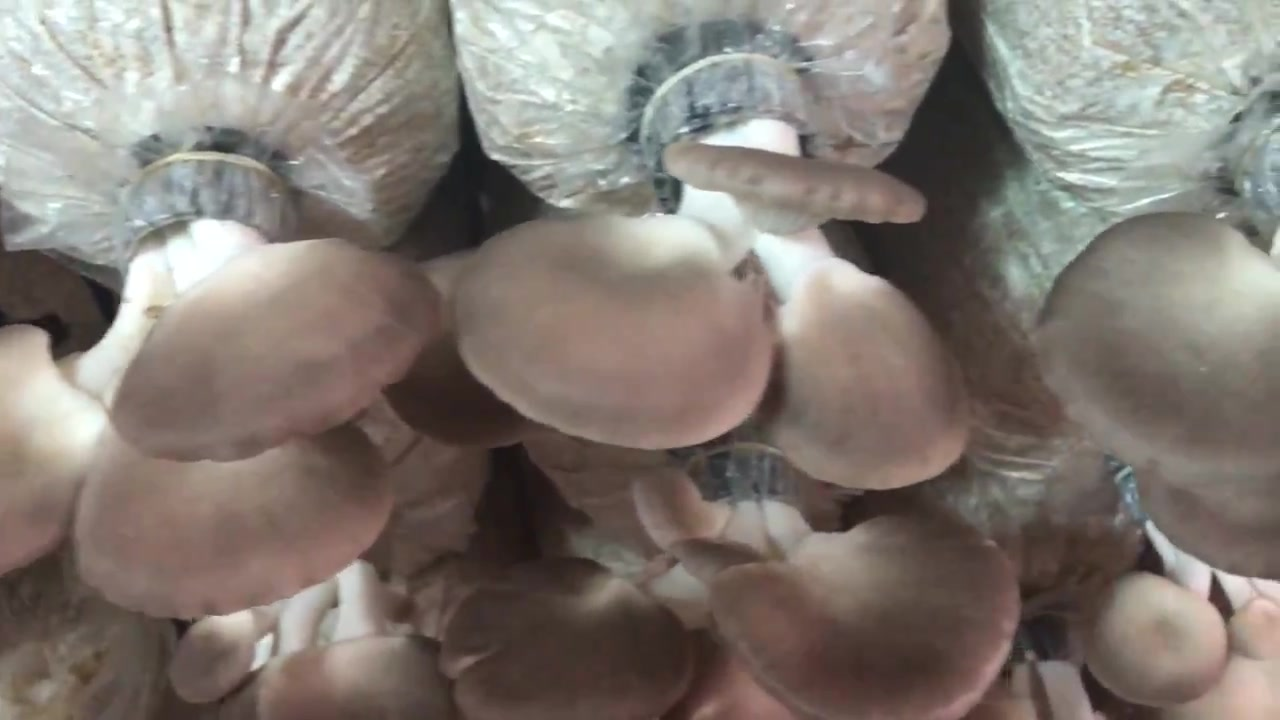nam: (456, 35, 970, 489), (1, 148, 438, 620), (443, 442, 1023, 720), (1041, 213, 1280, 576), (1075, 453, 1280, 712), (170, 557, 452, 720)
